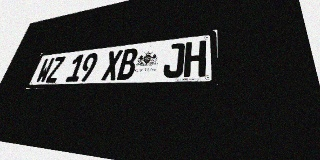1: (65, 54, 86, 82)
9: (78, 52, 99, 82)
B: (116, 48, 139, 80)
H: (183, 40, 206, 77)
J: (162, 43, 185, 78)
W: (35, 57, 55, 83)
X: (101, 50, 123, 81)
Z: (45, 56, 66, 83)
